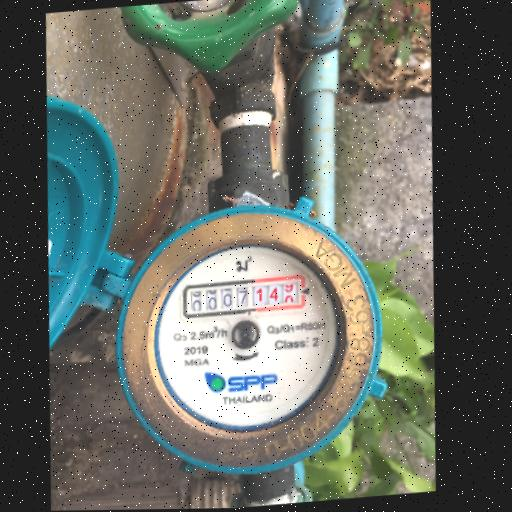0: (219, 289, 233, 310), (206, 290, 219, 311), (190, 292, 203, 312)
1: (253, 286, 266, 307)
4: (268, 285, 281, 305)
7: (236, 288, 248, 309)
9: (282, 284, 296, 304)
border_water_meter_number: (180, 275, 308, 319)
